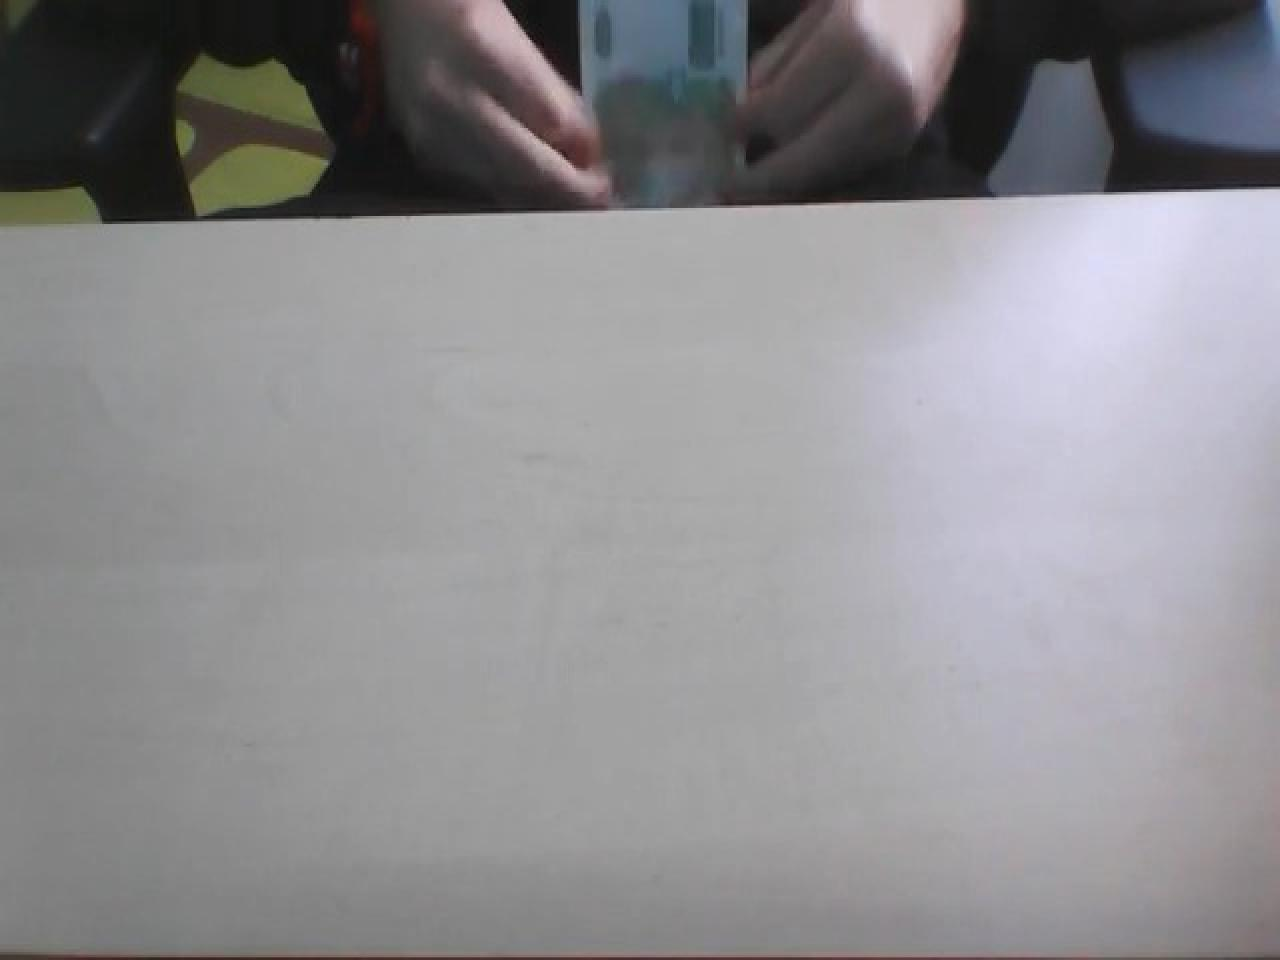100leva: (578, 0, 752, 205)
